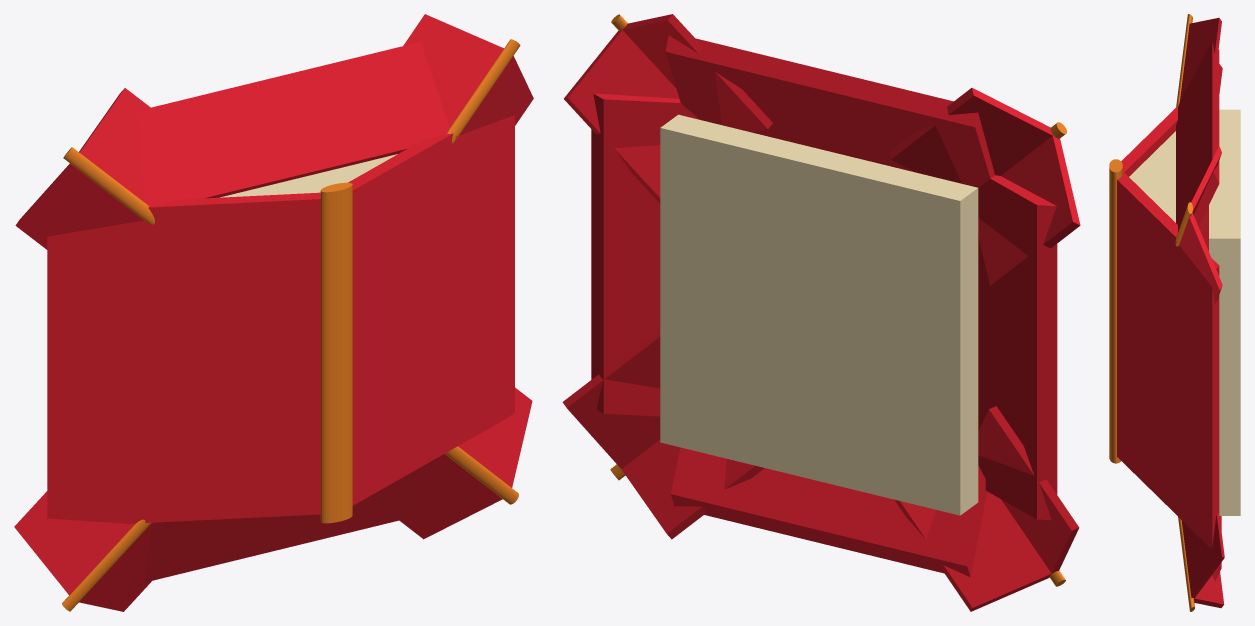
Rendered from Oregani_Roof.obj.
3 renders of one model, left to right at view 1: azimuth 30°, elevation 25°; view 2: azimuth 150°, elevation 25°; view 3: azimuth 270°, elevation 25°, orthographic. The views are drawn at different scales.
Parts seen in each view (by area): view 1: obj_7; view 2: obj_7; view 3: obj_7.
Boxes of the visible parts, left/top/right/bottom form: obj_7: left=14, top=14, right=533, bottom=611; obj_7: left=562, top=14, right=1080, bottom=611; obj_7: left=1109, top=14, right=1240, bottom=611.
Bounding box in the file's own units: 132 × 128 × 33.
